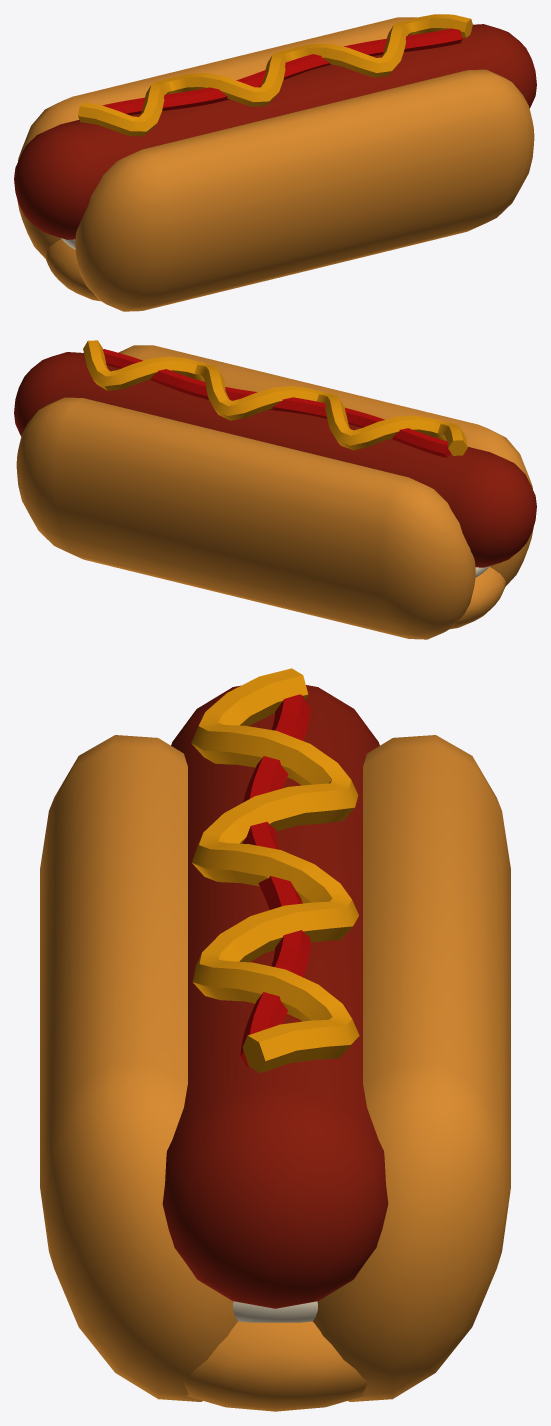
File: HotDog.fbx
3 renders of one model, top to bottom at view 1: azimuth 30°, elevation 25°; view 2: azimuth 150°, elevation 25°; view 3: azimuth 270°, elevation 25°, orthographic. The views are drawn at different scales.
Parts seen in each view (by area): view 1: HotDog; view 2: HotDog; view 3: HotDog.
Boxes of the visible parts, <box> form: HotDog: <box>14,14,536,311</box>; HotDog: <box>14,340,536,639</box>; HotDog: <box>40,668,510,1411</box>.
Size of the model in its own units: 2 by 0.7165 by 0.8033.
